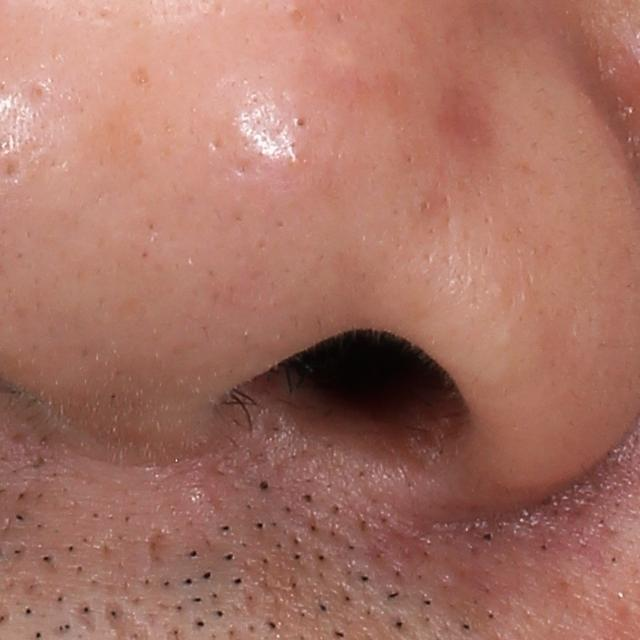atrophic_scar: (142, 527, 183, 587), (70, 600, 98, 638)
comedo: (290, 114, 308, 129)
